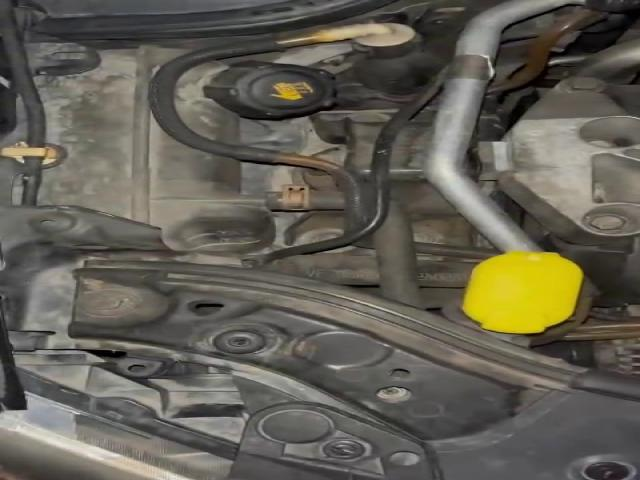antifreeze_tank: (35, 45, 277, 256), (174, 61, 336, 143)
